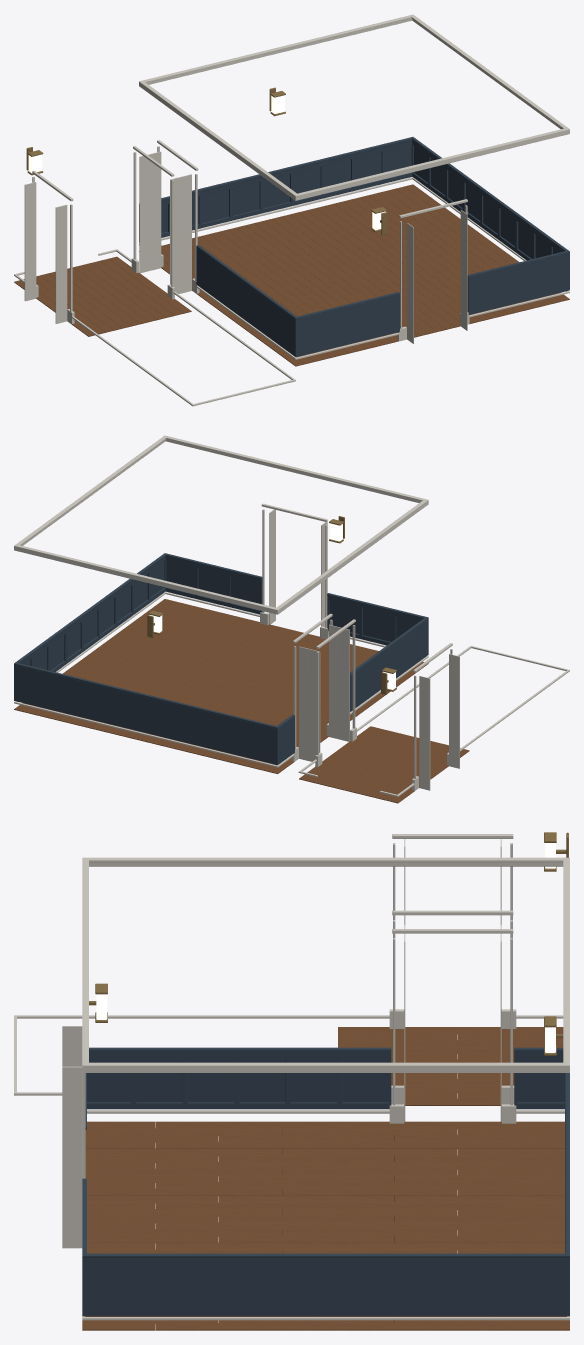
File: foyer-client-details-v002.glb
3 renders of one model, top to bottom at view 1: azimuth 30°, elevation 25°; view 2: azimuth 150°, elevation 25°; view 3: azimuth 270°, elevation 25°, orthographic. The views are drawn at different scales.
Parts seen in each view (by area): view 1: Export foyer oak board 0-0; view 2: Export foyer oak board 0-0; view 3: Export foyer oak board 0-0.
Boxes of the visible parts, x1,y1,x2,y2 form: Export foyer oak board 0-0: (14, 14, 569, 406); Export foyer oak board 0-0: (14, 435, 569, 803); Export foyer oak board 0-0: (14, 832, 569, 1330).
Bounding box in the file's own units: 7.56 × 3 × 5.7.
5 materials, 1 textured.
